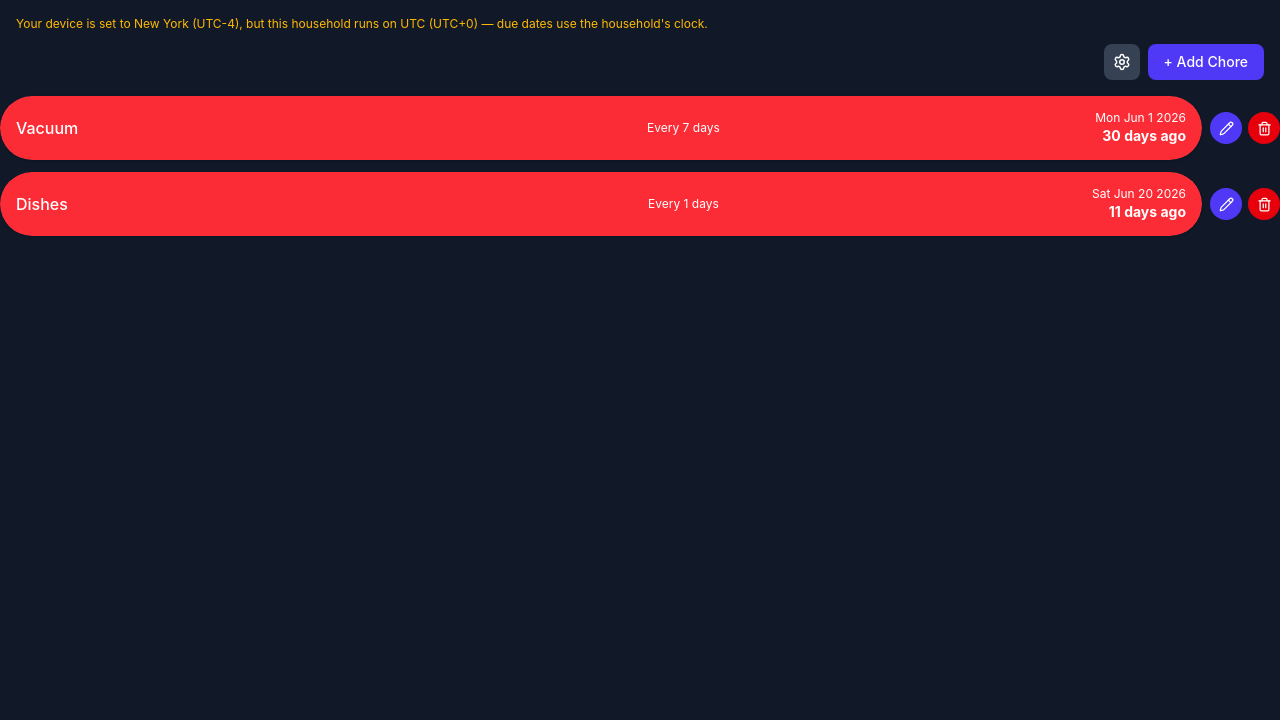
ChoresView › shows a distinguishable conflict dialog, not a generic error, when an edit hits a stale version
Check: the text "Vacuum" is shown, box [16,118,78,138]
Click the button named "Edit chore" next to "Mon Jun 1 2026".
click(1226, 128)  # box [1210,112,1242,144]
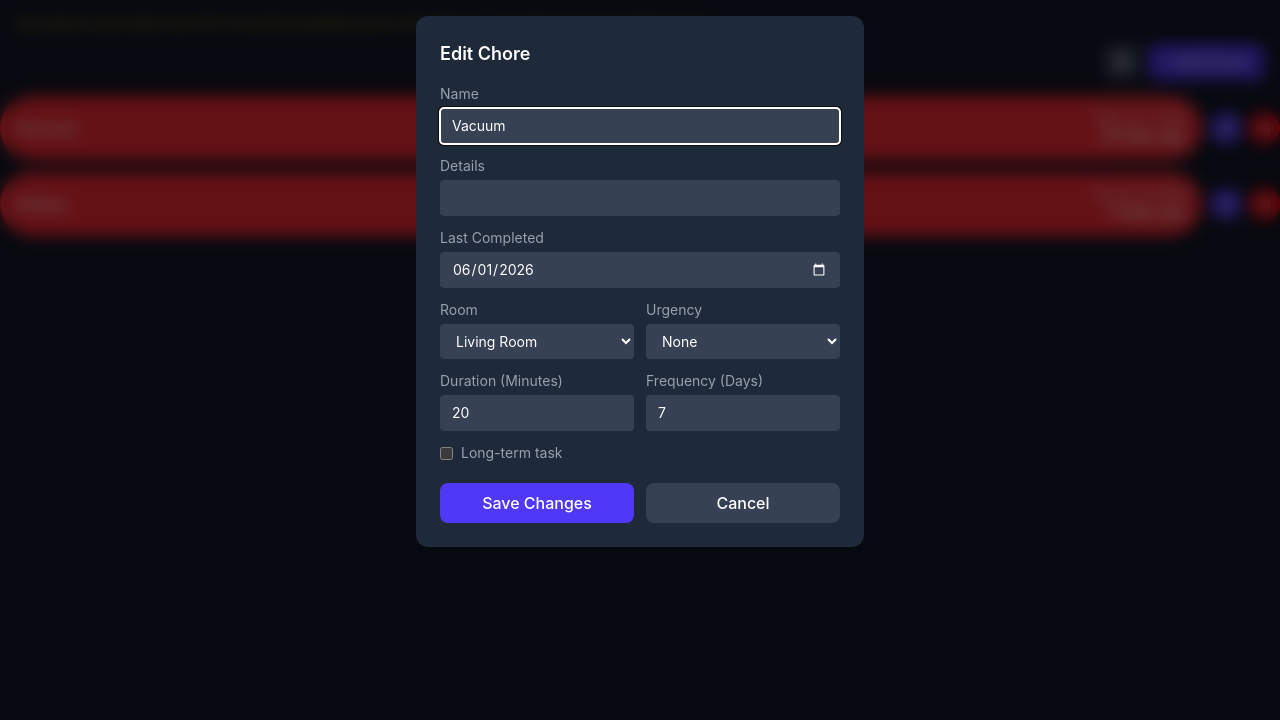
Click the button "Save Changes".
click(537, 503)  # box [440,483,634,523]
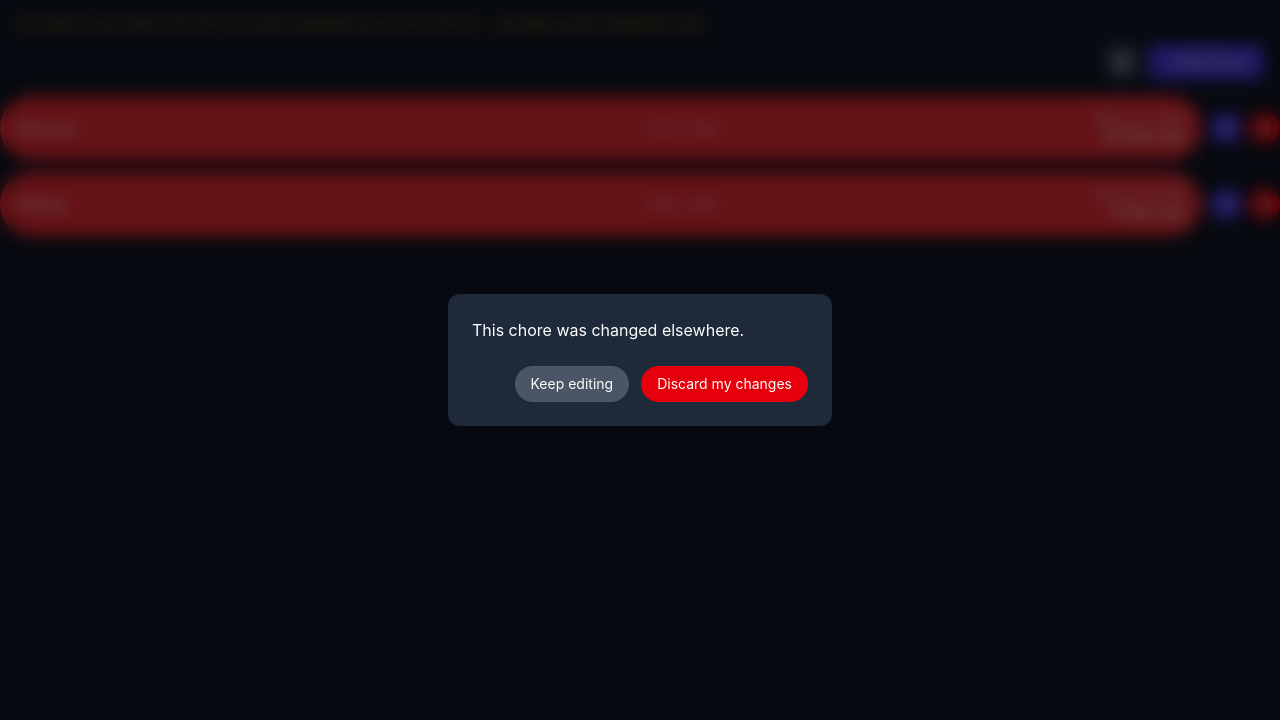
Check: the text "This chore was changed elsewhere." is shown, box [472,320,744,340]
Check: the dialog with test id "confirm-dialog-backdrop" is shown
